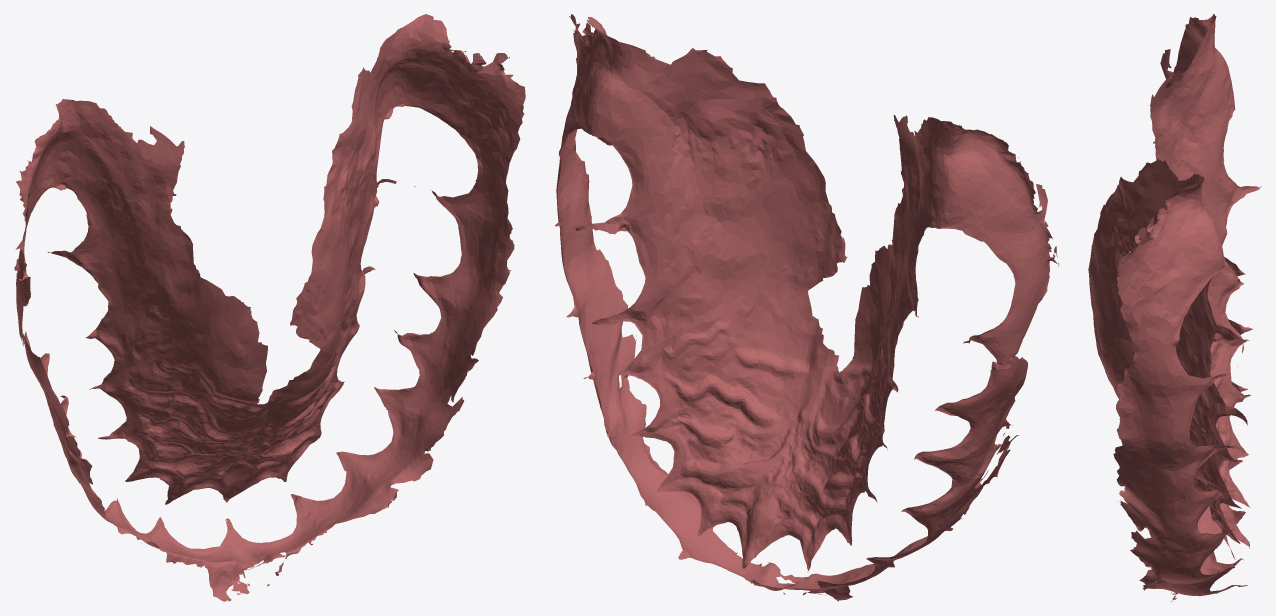
Rendered from Upper_gingiva__Demo_Virtual_Patient.obj.
The picture shows the model from 3 angles, left to right: view 1: azimuth 30°, elevation 25°; view 2: azimuth 150°, elevation 25°; view 3: azimuth 270°, elevation 25°; orthographic projection. The views are drawn at different scales.
Size of the model in its own units: 64.73 by 65.8 by 20.55.
